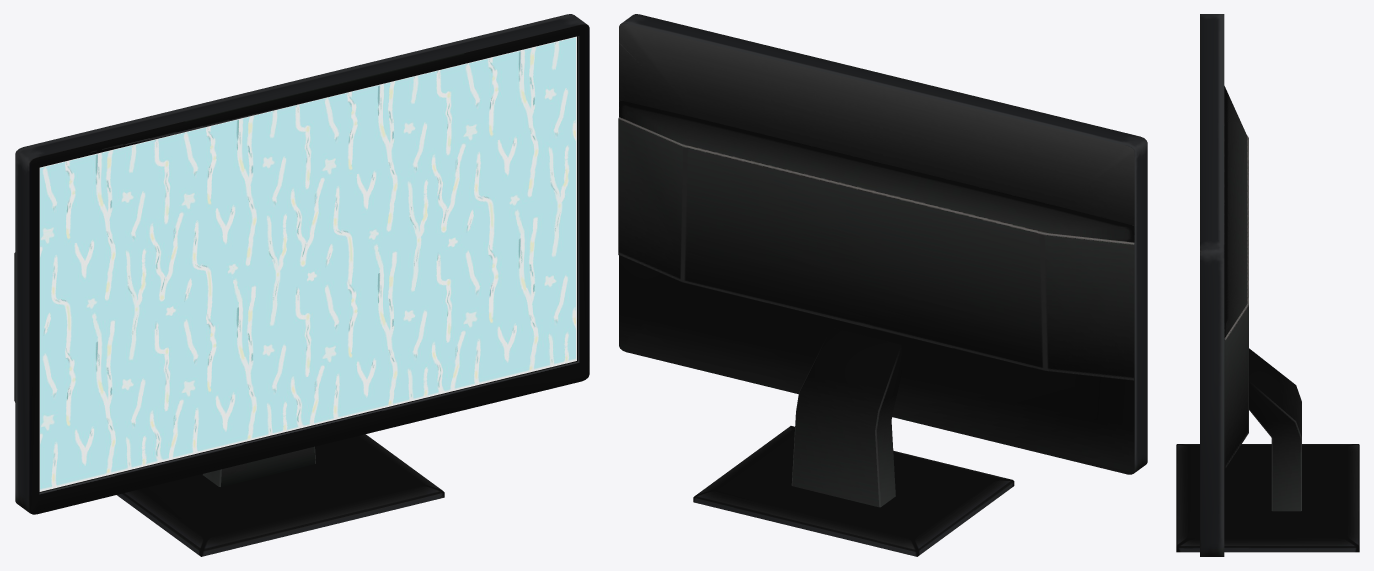
File: SmallMonitor.gltf
The picture shows the model from 3 angles, left to right: view 1: azimuth 30°, elevation 25°; view 2: azimuth 150°, elevation 25°; view 3: azimuth 270°, elevation 25°; orthographic projection. The views are drawn at different scales.
Visible parts, largest first — view 1: Small Monitor Screen; view 2: Small Monitor Screen; view 3: Small Monitor Screen.
Boxes of the visible parts, x1,y1,x2,y2 form: Small Monitor Screen: (14,14,589,556); Small Monitor Screen: (618,14,1147,556); Small Monitor Screen: (1176,14,1359,556).
Size of the model in its own units: 0.46 by 0.3345 by 0.15.
1 material, 1 textured.
